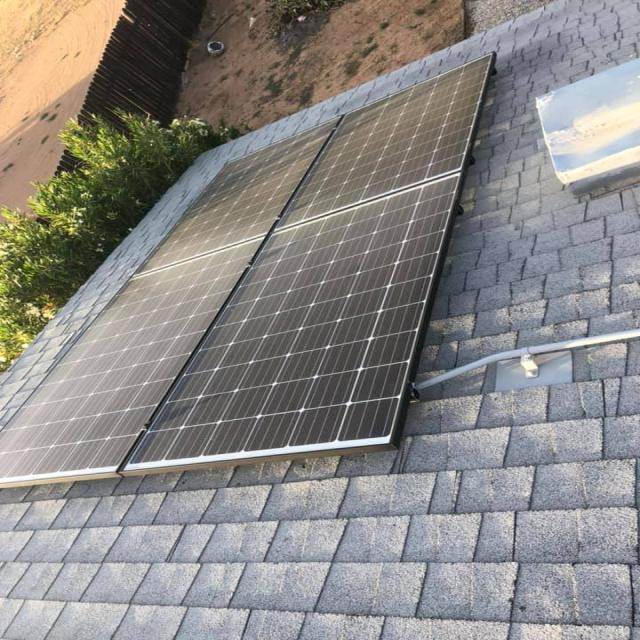dust-solar-panel: (0, 52, 493, 489)
